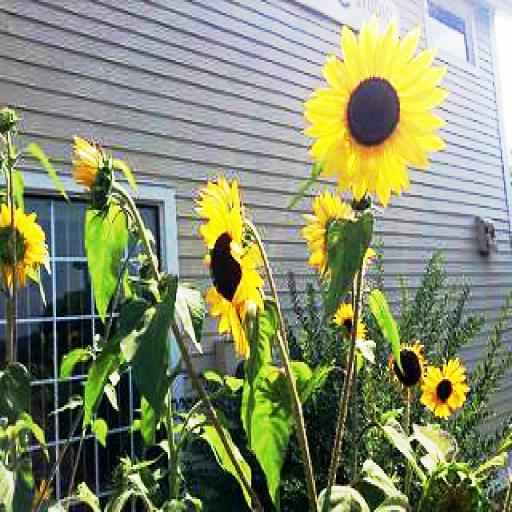sunflower: (302, 17, 448, 206), (197, 176, 259, 354), (304, 193, 358, 287), (419, 353, 469, 420), (72, 133, 110, 201)
